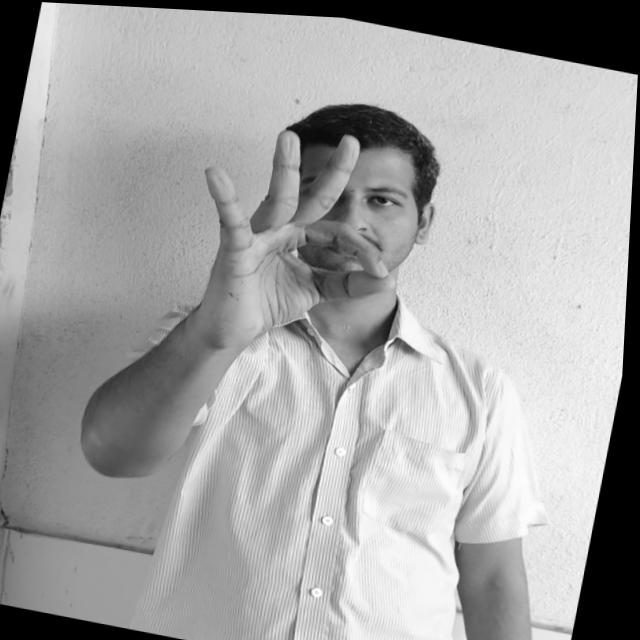Superb: (174, 104, 421, 358)
